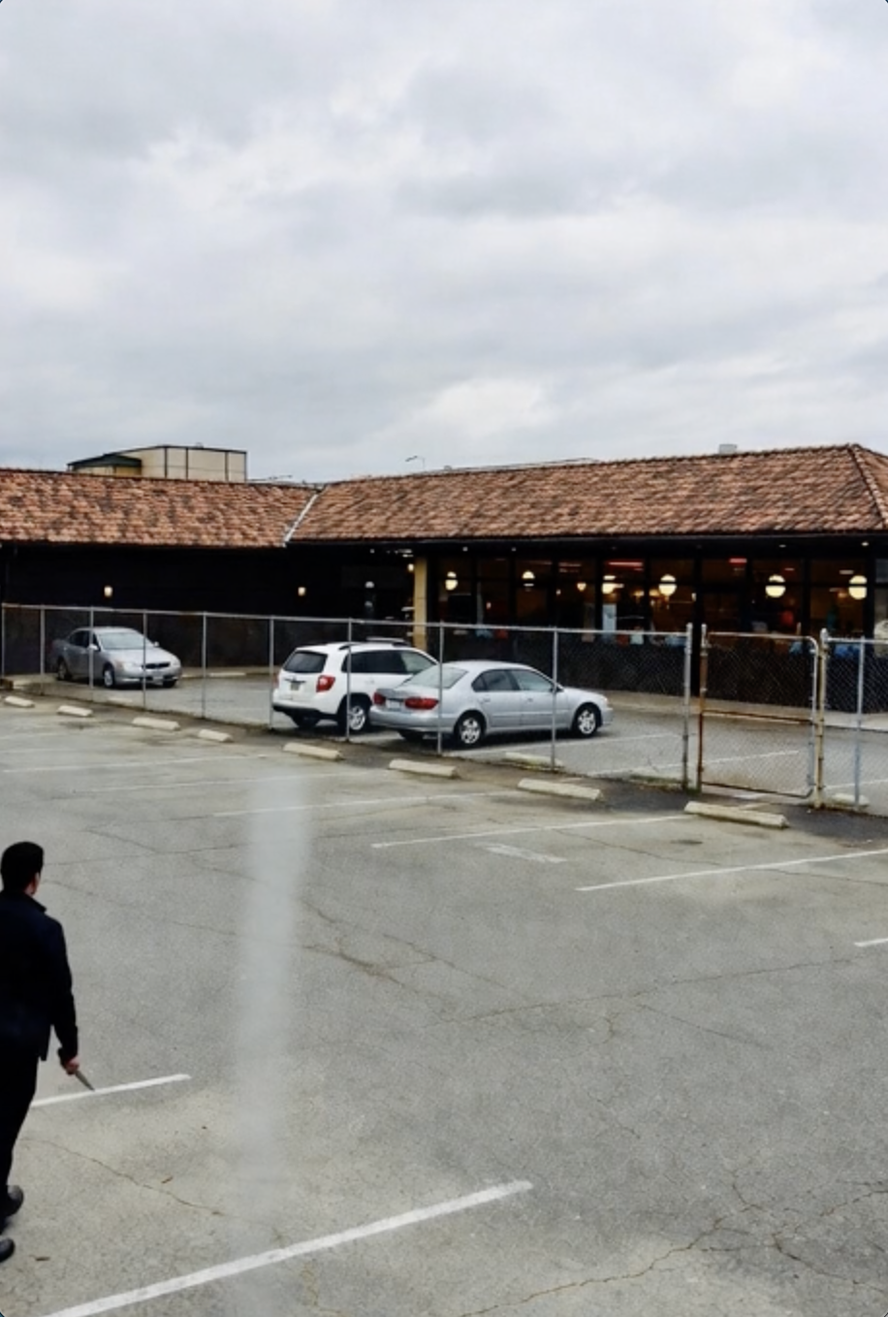Heavy Gun: (0, 834, 80, 1277)
Knife: (58, 1050, 101, 1093)
